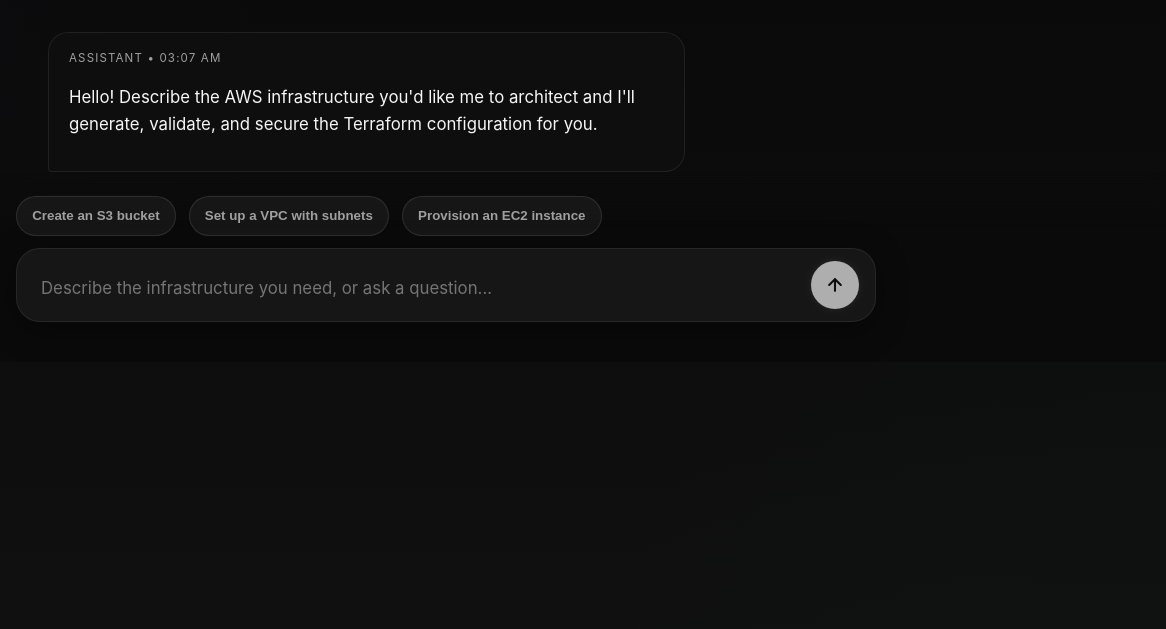
Scenario: Chat Interface › shows an error toast when the agent returns an error message
Type "Create an S3 bucket" into the text box with placeholder "Describe the infrastructure you need, or ask a question..." at (414,288), box 33,268 -> 795,309
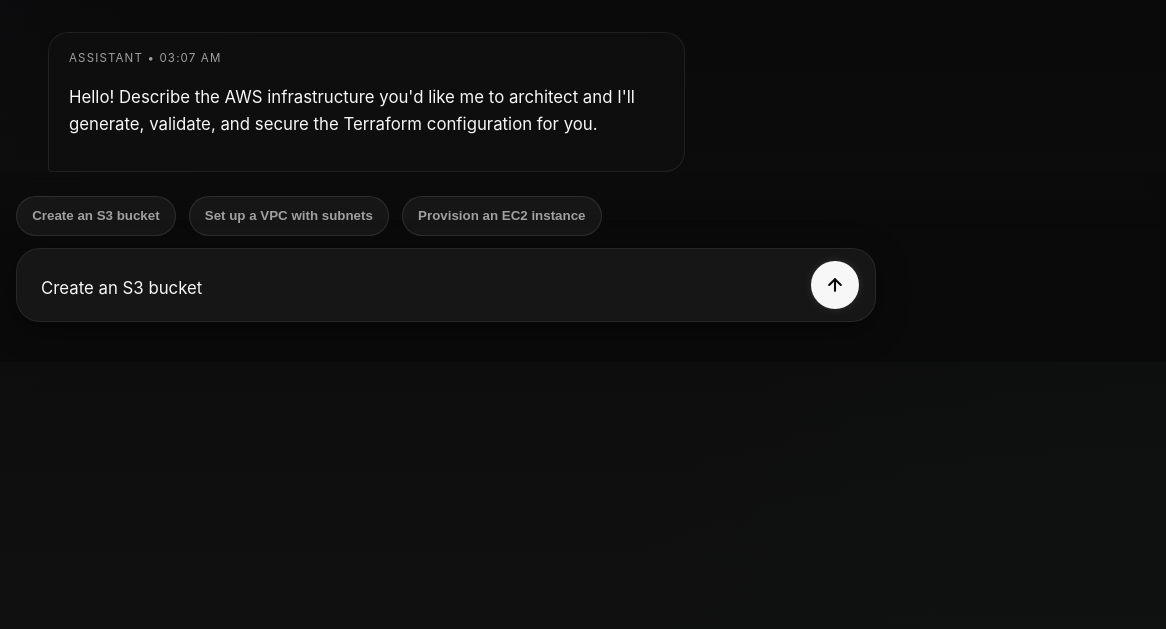
Click the button named "Send message" at (835,285), box 811,261 -> 859,309
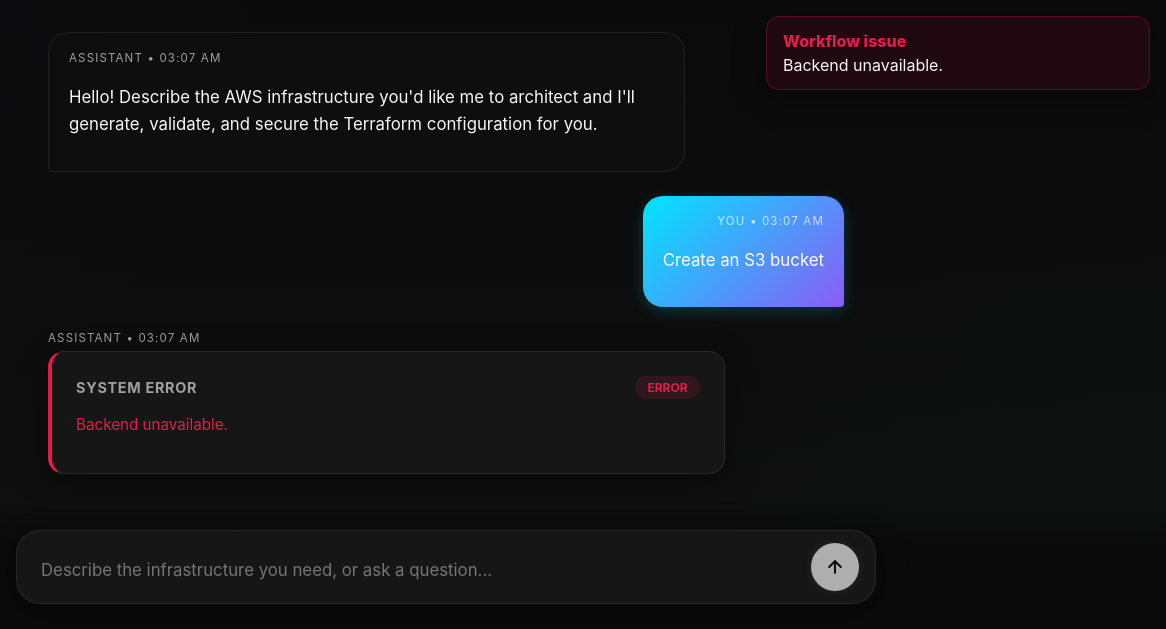
expect the message shows "Backend unavailable.": met, box 783,55 -> 943,75
expect the text "System Error" is shown: met, box 76,379 -> 197,396
